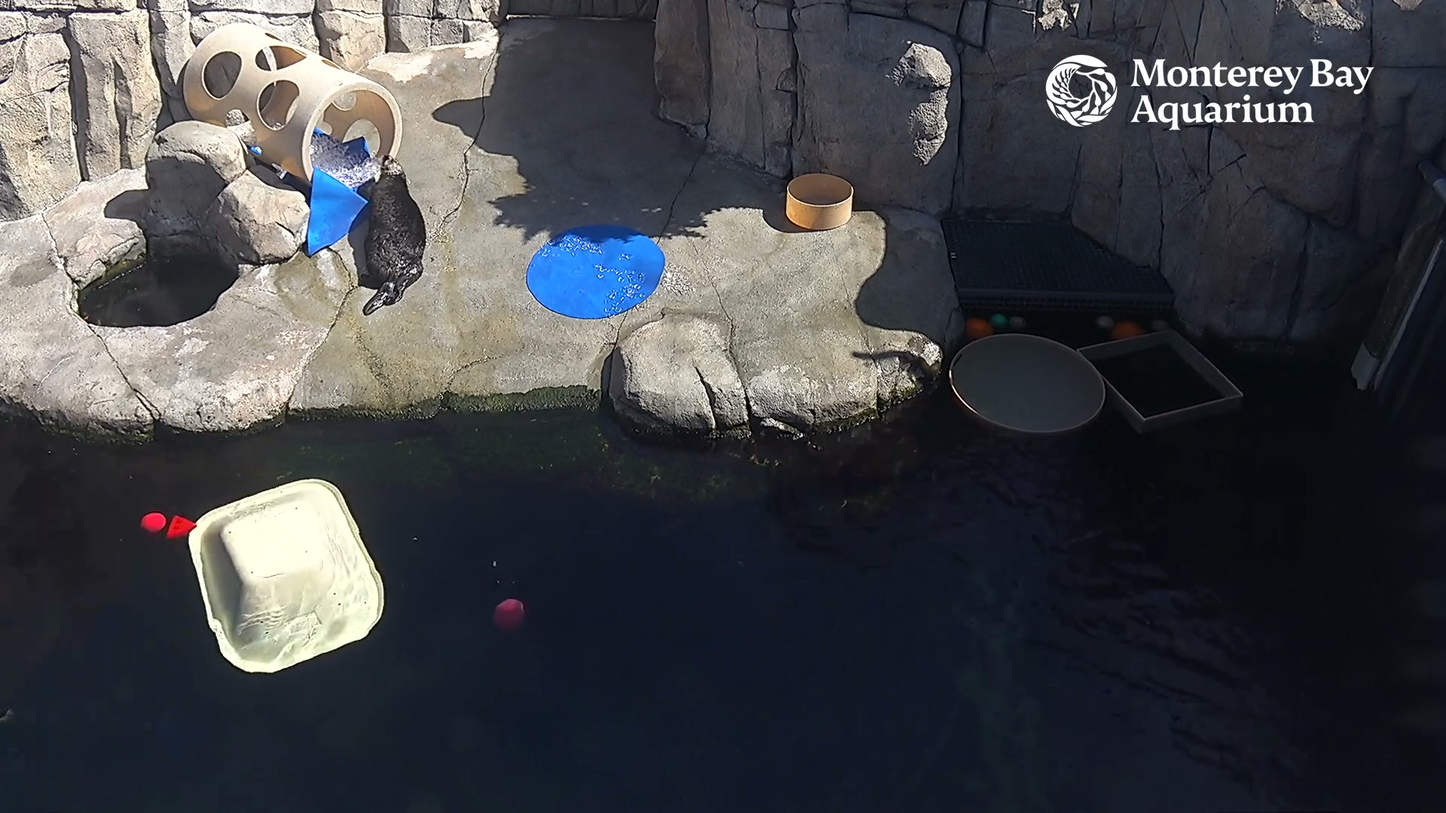Southern Sea Otter: (353, 143, 433, 329)
